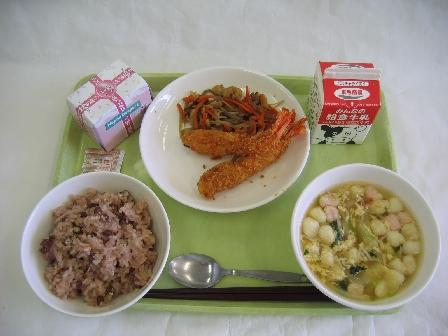Milk: (306, 47, 389, 157)
Mixed rice: (25, 180, 173, 319)
Soups: (292, 171, 440, 311)
salad with sauce: (179, 76, 275, 130)
seafood: (174, 121, 300, 196)
